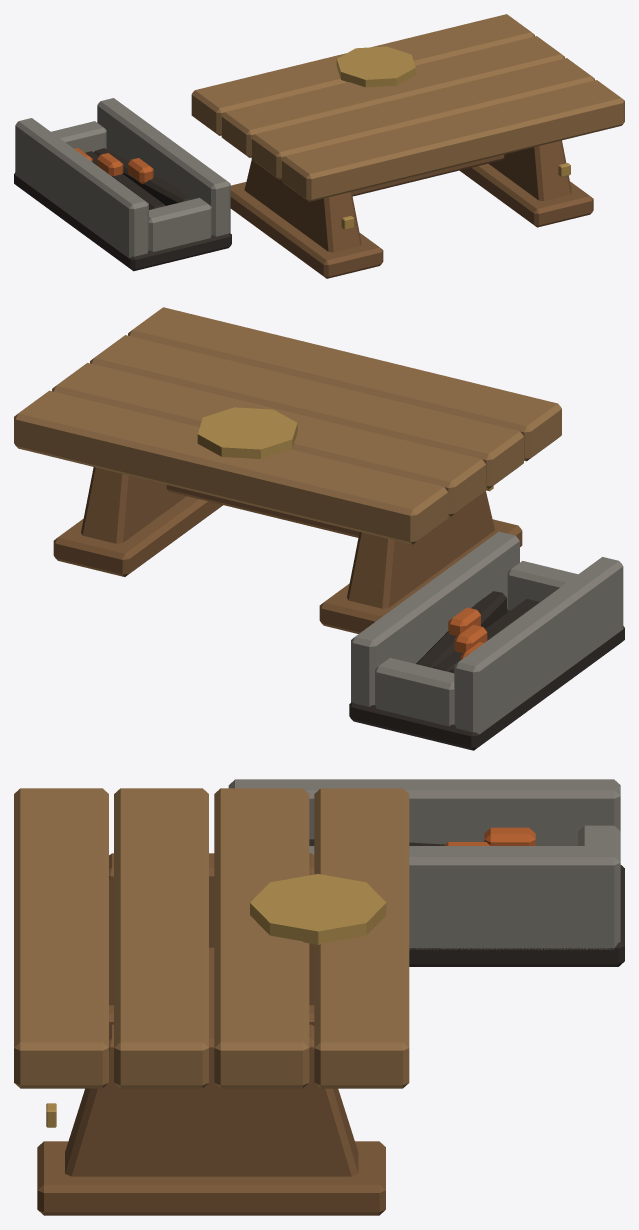
File: interior-kitchen.glb
The picture shows the model from 3 angles, top to bottom: view 1: azimuth 30°, elevation 25°; view 2: azimuth 150°, elevation 25°; view 3: azimuth 270°, elevation 25°; orthographic projection. The views are drawn at different scales.
Visible parts, largest first — view 1: interior-kitchen-visual; view 2: interior-kitchen-visual; view 3: interior-kitchen-visual.
Boxes of the visible parts, x1=… form: interior-kitchen-visual: x1=14, y1=14, x2=624, y2=278; interior-kitchen-visual: x1=14, y1=307, x2=624, y2=750; interior-kitchen-visual: x1=14, y1=779, x2=624, y2=1215.
Bounding box in the file's own units: 1.95 × 0.5325 × 1.43.
